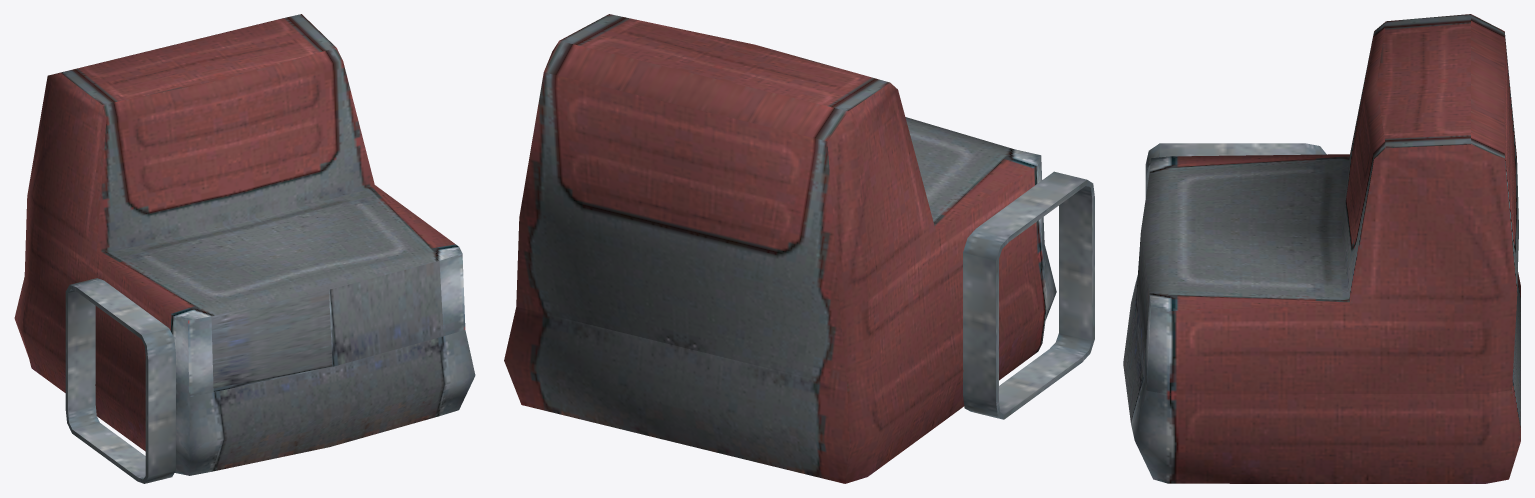
The model's file is frn_all_chair_upholstered_s1_l3.fbx.
The picture shows the model from 3 angles, left to right: view 1: azimuth 30°, elevation 25°; view 2: azimuth 150°, elevation 25°; view 3: azimuth 270°, elevation 25°; orthographic projection. The views are drawn at different scales.
Parts seen in each view (by area): view 1: mesh_node; view 2: mesh_node; view 3: mesh_node.
Boxes of the visible parts, box(x1,y1,x2,y2) form: mesh_node: box(14, 14, 475, 483); mesh_node: box(504, 14, 1094, 483); mesh_node: box(1123, 14, 1520, 483).
Bounding box in the file's own units: 0.8987 × 0.7625 × 0.8401.
Materials: 1 (1 with a texture image).
